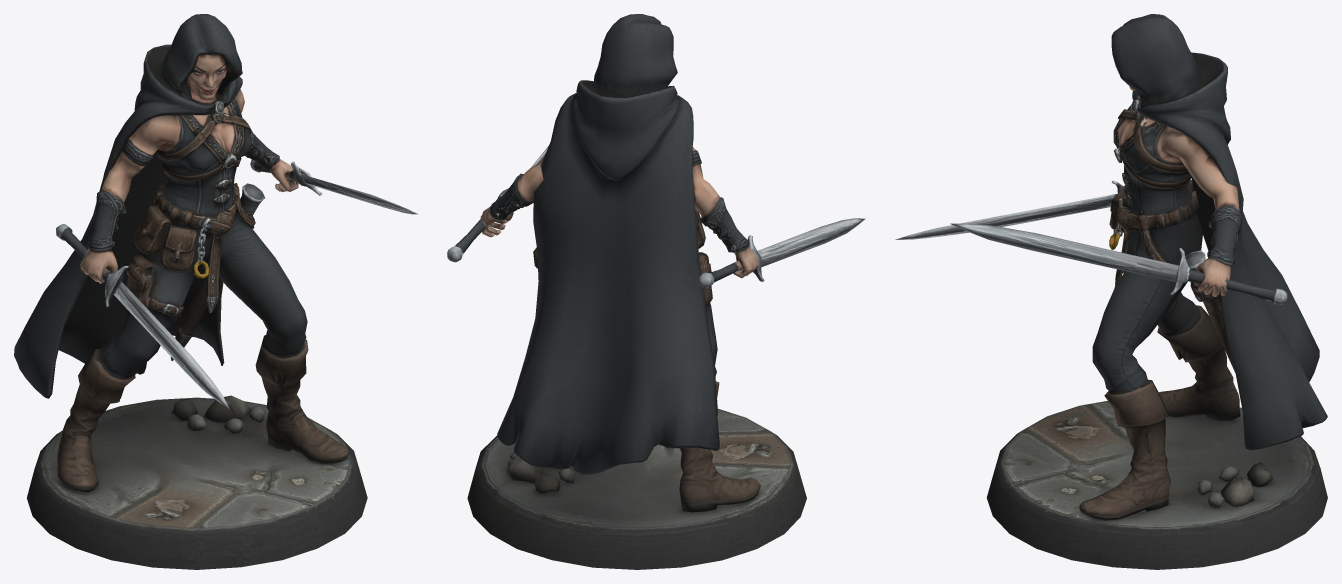
Rendered from assassin_def_female.glb.
3 views of the same model, side by side, from view 1: azimuth 30°, elevation 25°; view 2: azimuth 150°, elevation 25°; view 3: azimuth 270°, elevation 25° (orthographic).
Visible parts, largest first — view 1: tripo_node_1c303966-add0-420b-acc4-4f83fd210287; view 2: tripo_node_1c303966-add0-420b-acc4-4f83fd210287; view 3: tripo_node_1c303966-add0-420b-acc4-4f83fd210287.
Part boxes in pixels (left/top/right/bottom): tripo_node_1c303966-add0-420b-acc4-4f83fd210287: left=14, top=14, right=418, bottom=569; tripo_node_1c303966-add0-420b-acc4-4f83fd210287: left=447, top=14, right=865, bottom=569; tripo_node_1c303966-add0-420b-acc4-4f83fd210287: left=895, top=14, right=1327, bottom=569.
Bounding box in the file's own units: 0.6426 × 0.998 × 0.8145.
1 material, 1 textured.
